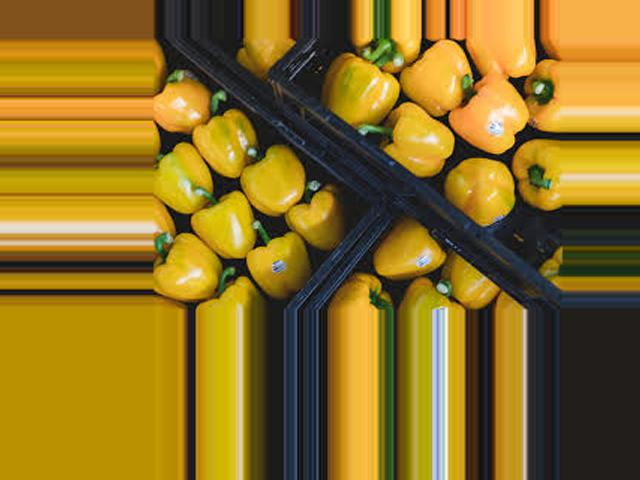bell_pepper: (153, 241, 234, 311)
